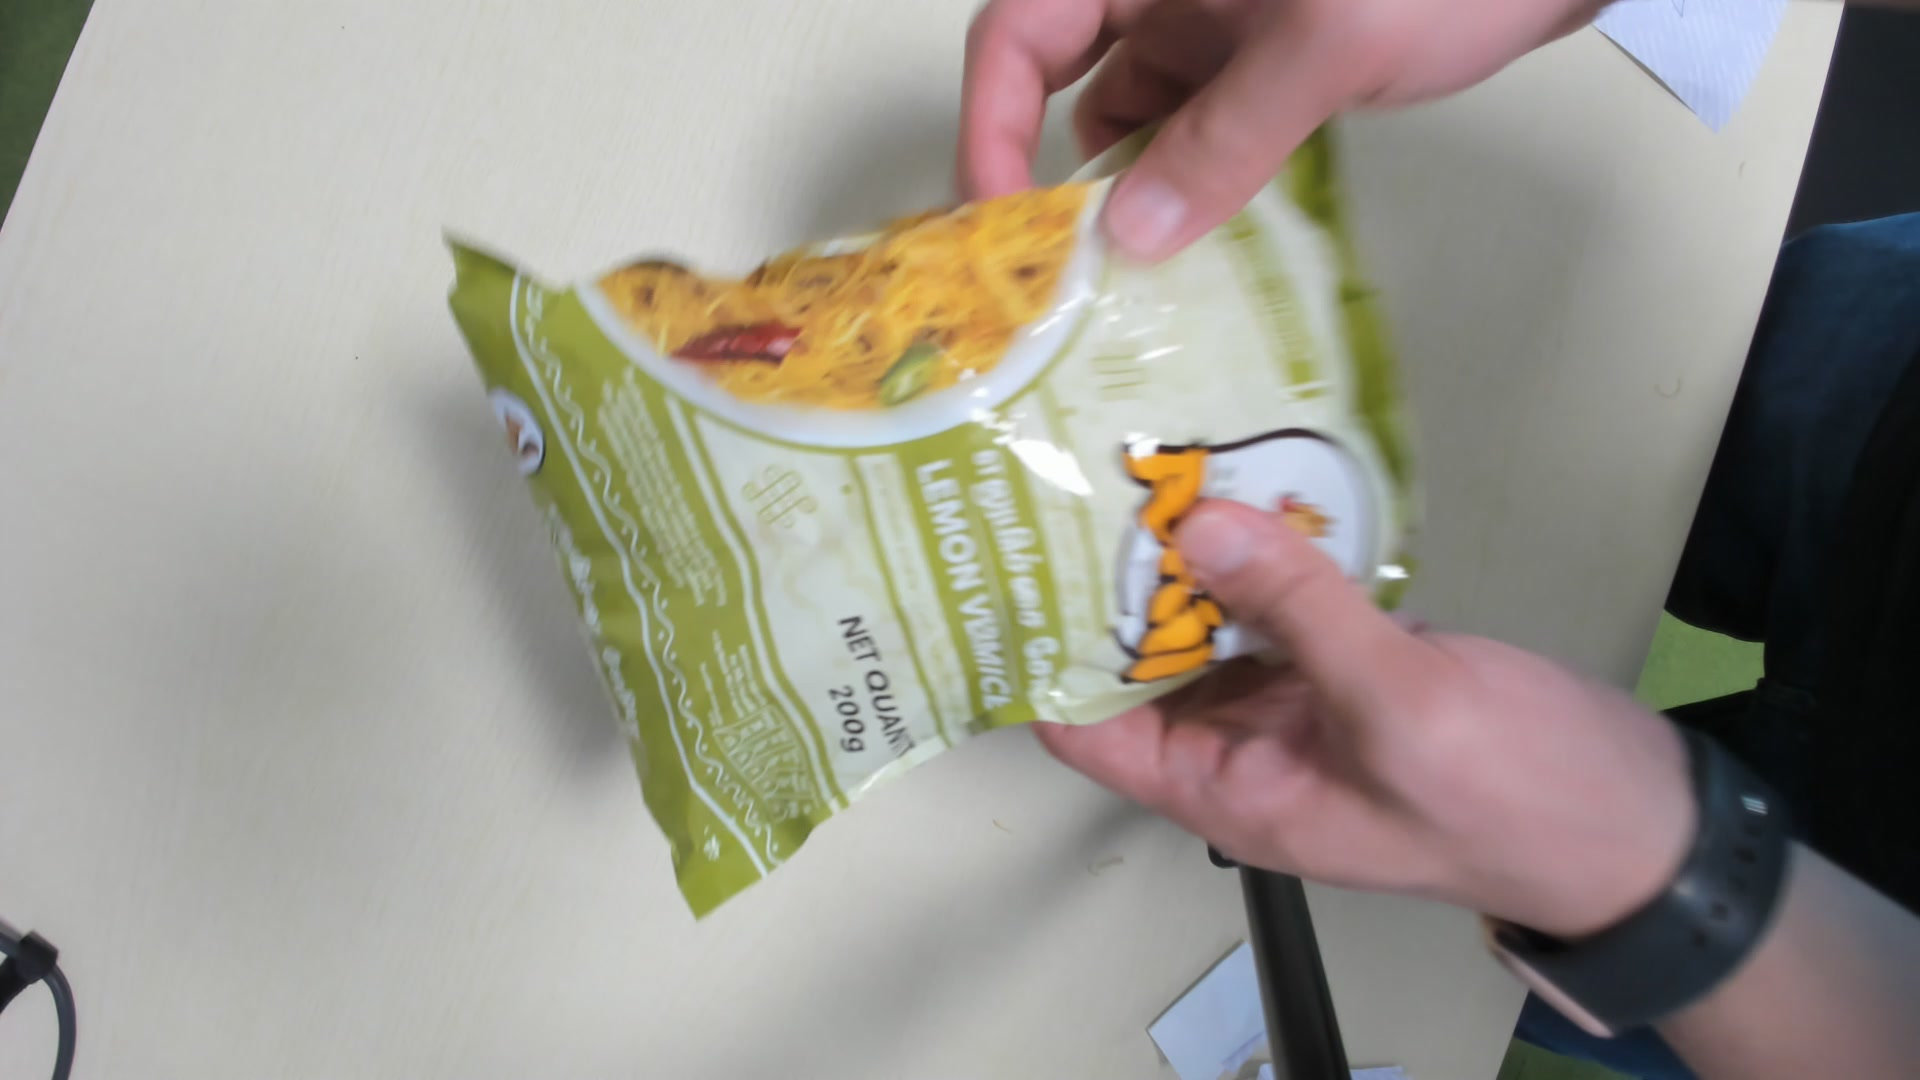BeeHoonVermicelli_200-299g_NonHalal_NonHealthy: (444, 94, 1423, 928)
